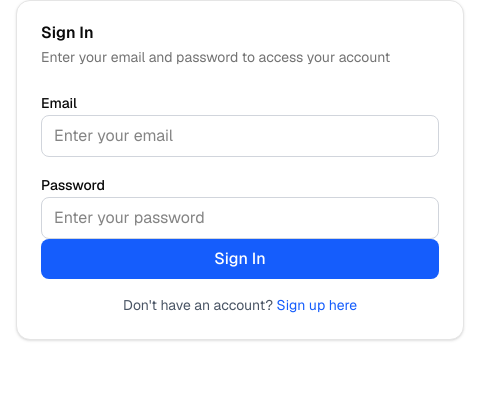
Test: Authentication Tests › LoginForm Component › displays validation errors for empty fields
The image size is (481, 414).
Click the button "Sign In" at (240, 259), box [41,239,439,279]
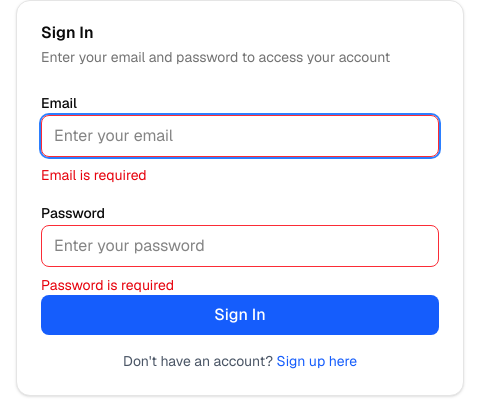
Check: the text "Email is required" is shown, box [41,166,147,184]
Check: the text "Password is required" is shown, box [41,276,174,294]
